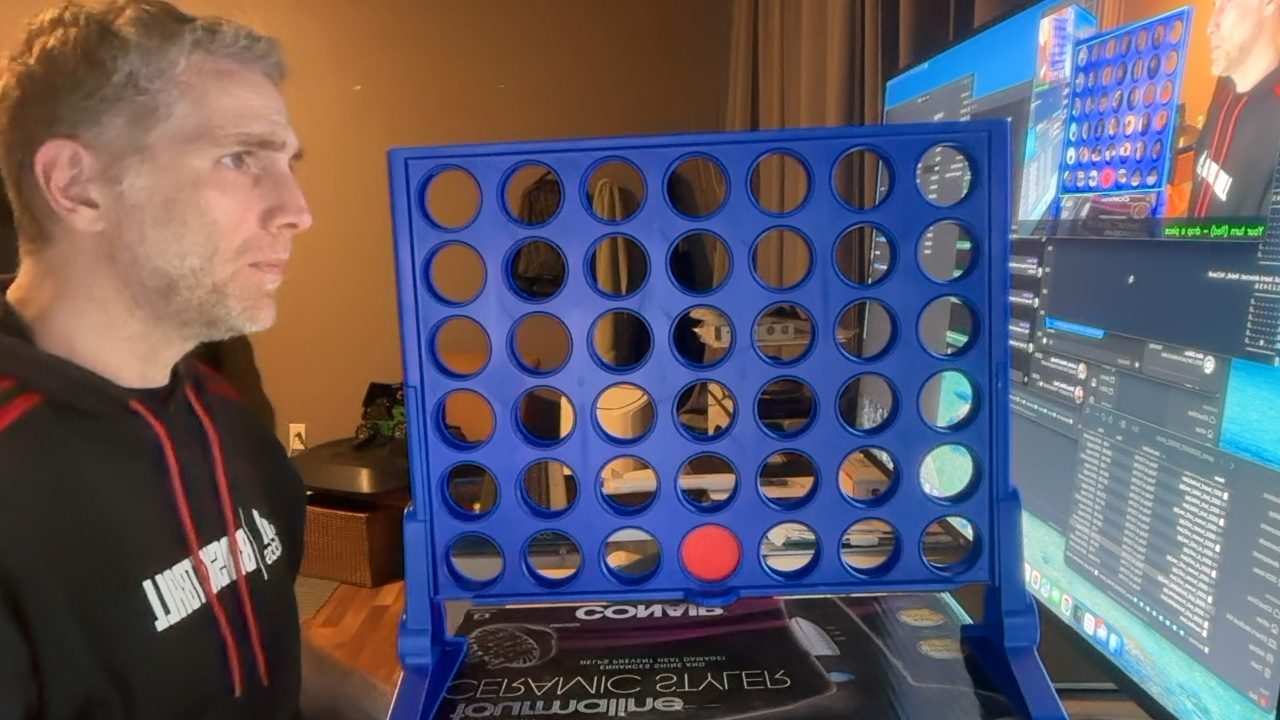red piece: (680, 524, 741, 582)
